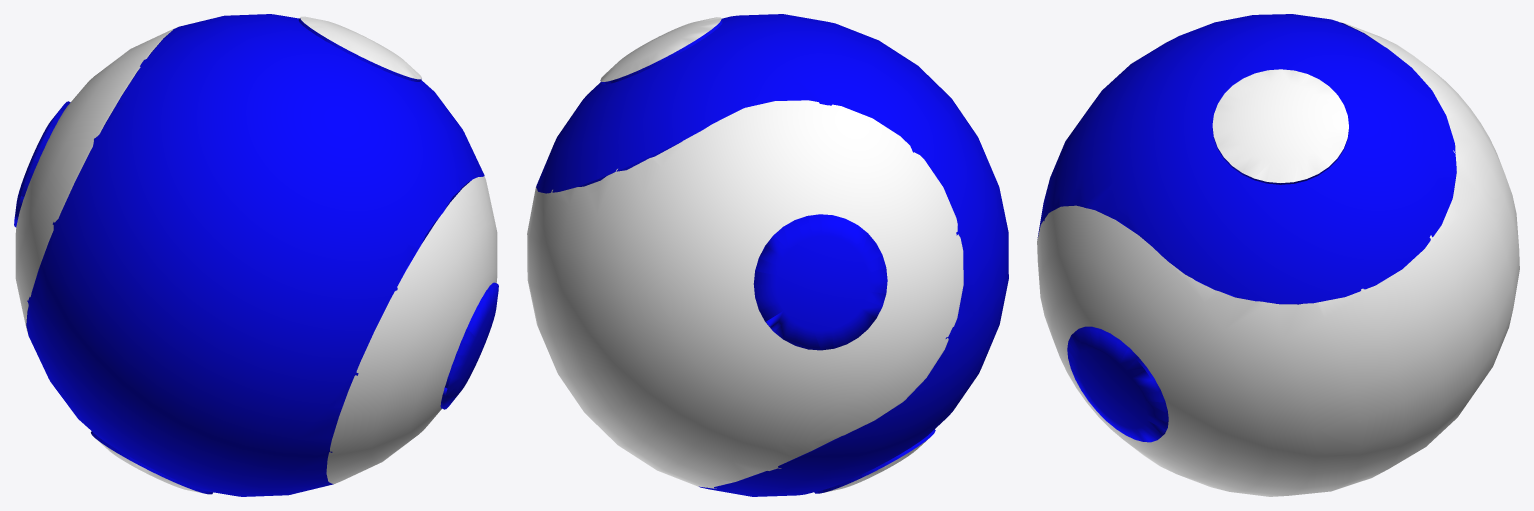
File: yinyang_jade_blue.obj
3 views of the same model, side by side, from view 1: azimuth 30°, elevation 25°; view 2: azimuth 150°, elevation 25°; view 3: azimuth 270°, elevation 25° (orthographic).
Parts seen in each view (by area): view 1: SphereDark, SphereLight, eyeDark, eyeLight; view 2: SphereLight, SphereDark, eyeDark, eyeLight; view 3: SphereLight, SphereDark, eyeLight, eyeDark.
Boxes of the visible parts, box(x1,y1,x2,y2) form: SphereDark: box(27, 14, 484, 496); SphereLight: box(15, 27, 497, 483); eyeDark: box(14, 101, 498, 409); eyeLight: box(91, 16, 421, 494); SphereLight: box(527, 100, 963, 488); SphereDark: box(536, 14, 1008, 496); eyeDark: box(753, 214, 887, 350); eyeLight: box(600, 17, 935, 493); SphereLight: box(1037, 22, 1519, 496); SphereDark: box(1037, 14, 1456, 304); eyeLight: box(1212, 69, 1348, 184); eyeDark: box(1067, 279, 1302, 442).
Bounding box in the file's own units: 2 × 2 × 2.
